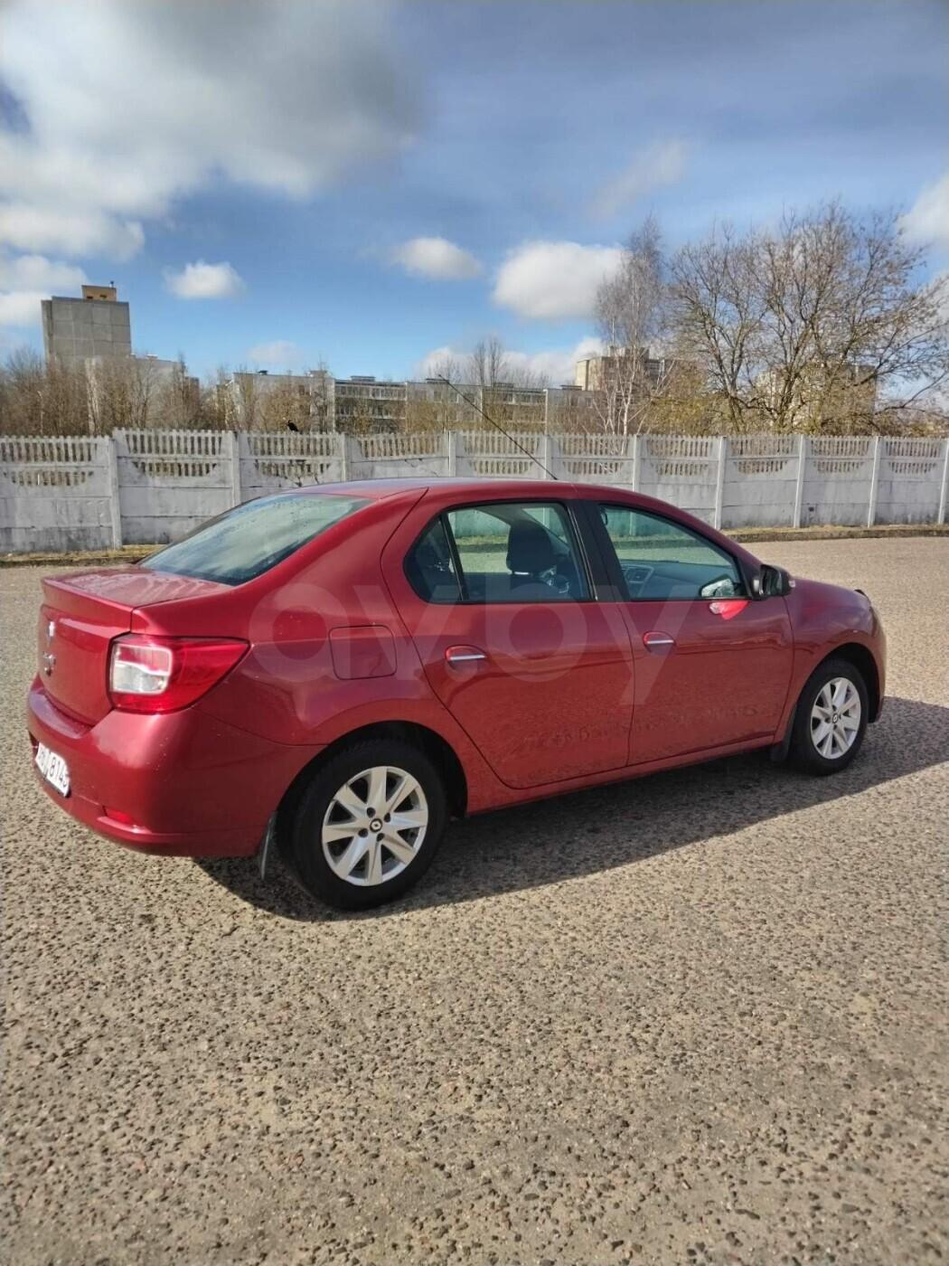Logan_2018: (22, 470, 895, 917)
